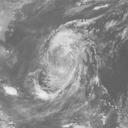cyclone: (36, 17, 97, 98)
